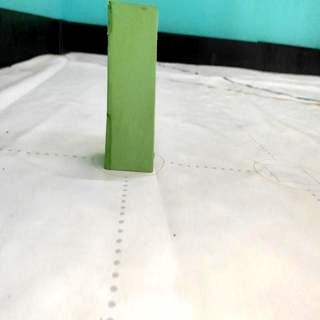greenbox: (104, 0, 160, 171)
